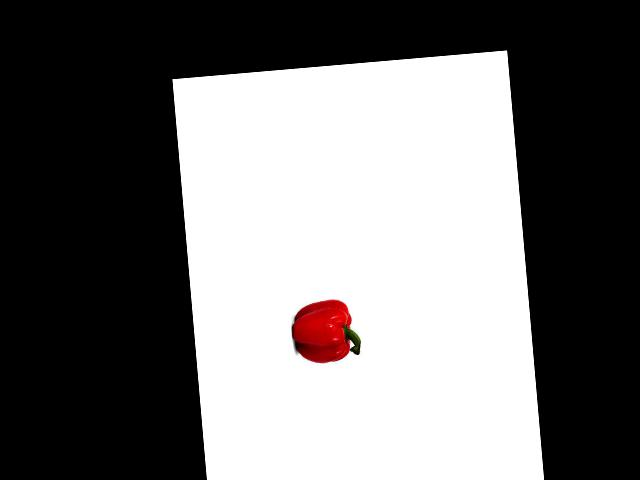bell_pepper: (290, 293, 363, 367)
